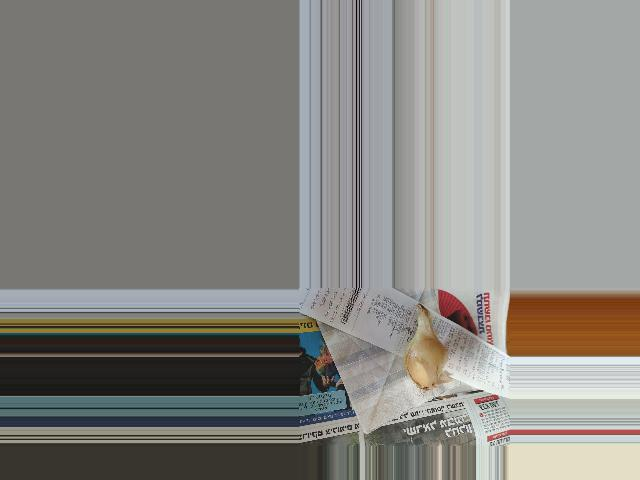onion: (400, 328, 444, 390)
